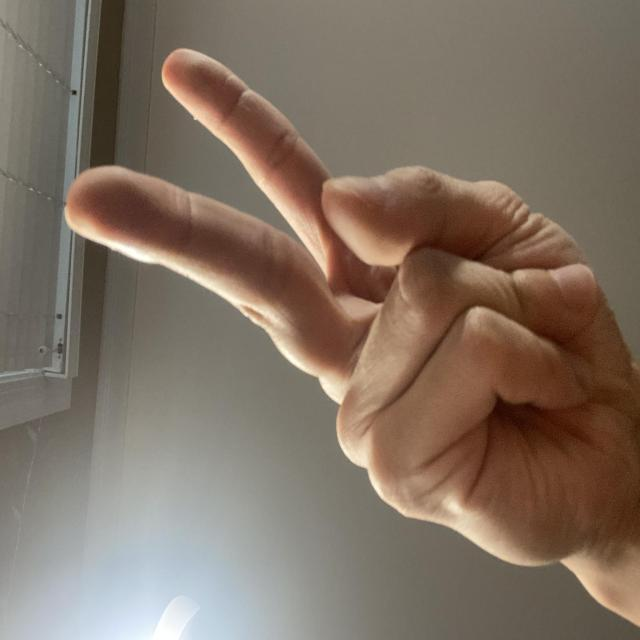K: (49, 75, 452, 640)
